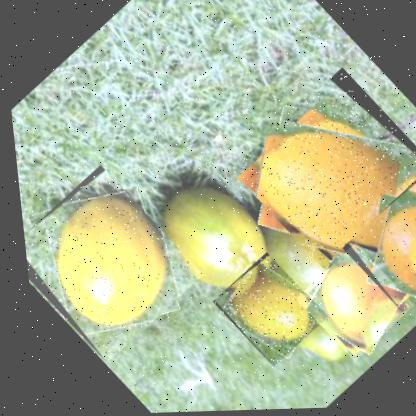orange: (217, 65, 415, 316), (13, 161, 206, 365), (283, 242, 412, 364), (201, 250, 325, 369), (329, 178, 415, 319)
